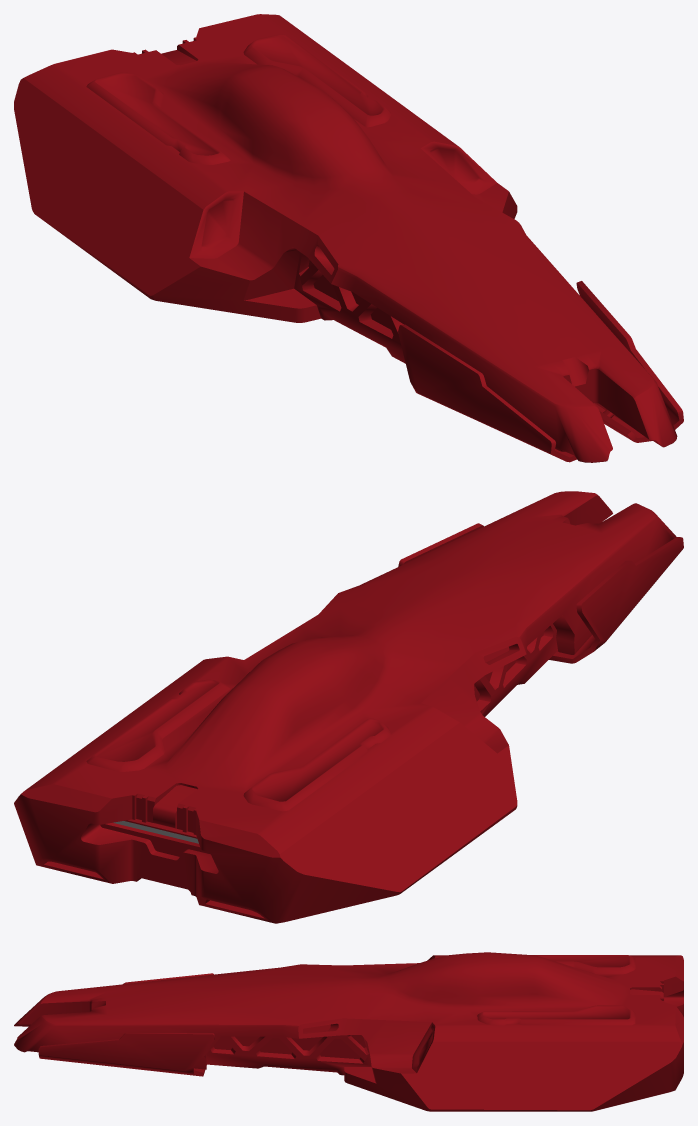
File: Ship Body.FBX
3 renders of one model, top to bottom at view 1: azimuth 30°, elevation 25°; view 2: azimuth 150°, elevation 25°; view 3: azimuth 270°, elevation 25°, orthographic. The views are drawn at different scales.
Visible parts, largest first — view 1: Ship_01; view 2: Ship_01; view 3: Ship_01.
Part boxes in pixels (x1,y1,x2,y2): Ship_01: [14, 14, 683, 462]; Ship_01: [14, 491, 683, 923]; Ship_01: [14, 952, 683, 1111].
Bounding box in the file's own units: 172 × 67.61 × 394.
